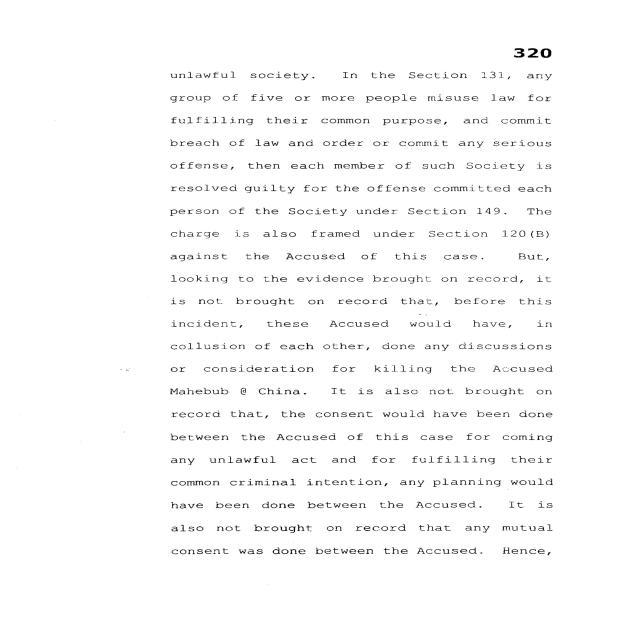page-number: (432, 0, 636, 62)
